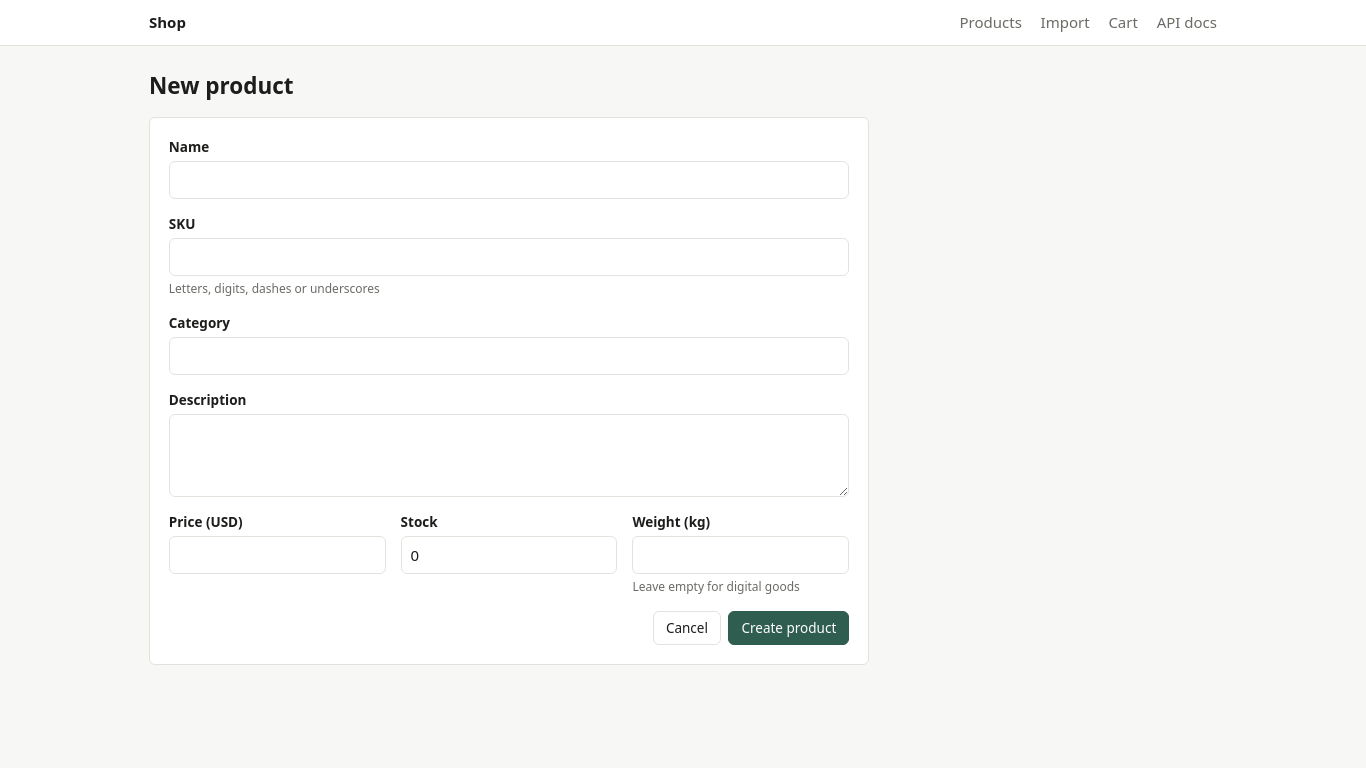
Test case: product form › shows field errors coming from the API
In the field labelled "Name": (509, 180) [169,161,849,199], type "Desk"
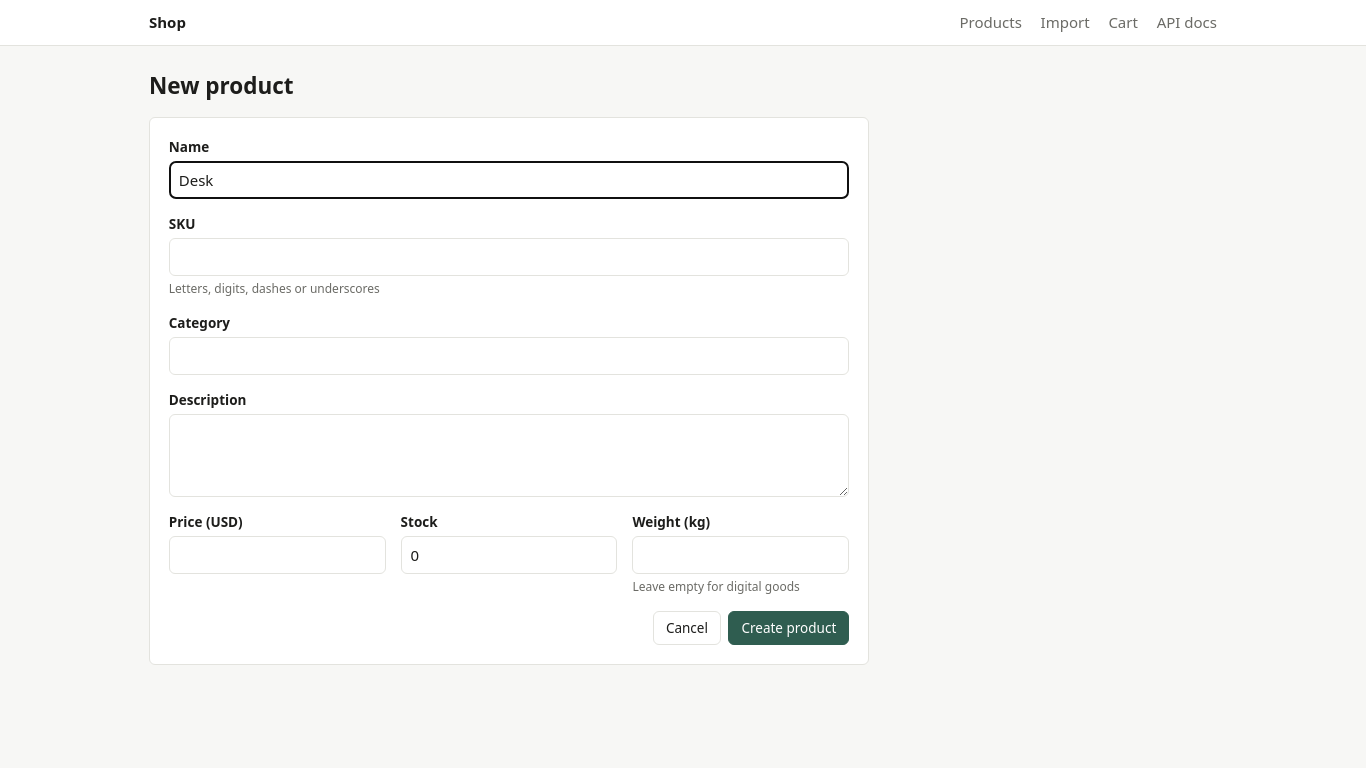
In the field labelled "SKU": (509, 257) [169,238,849,276], type "DK-1"
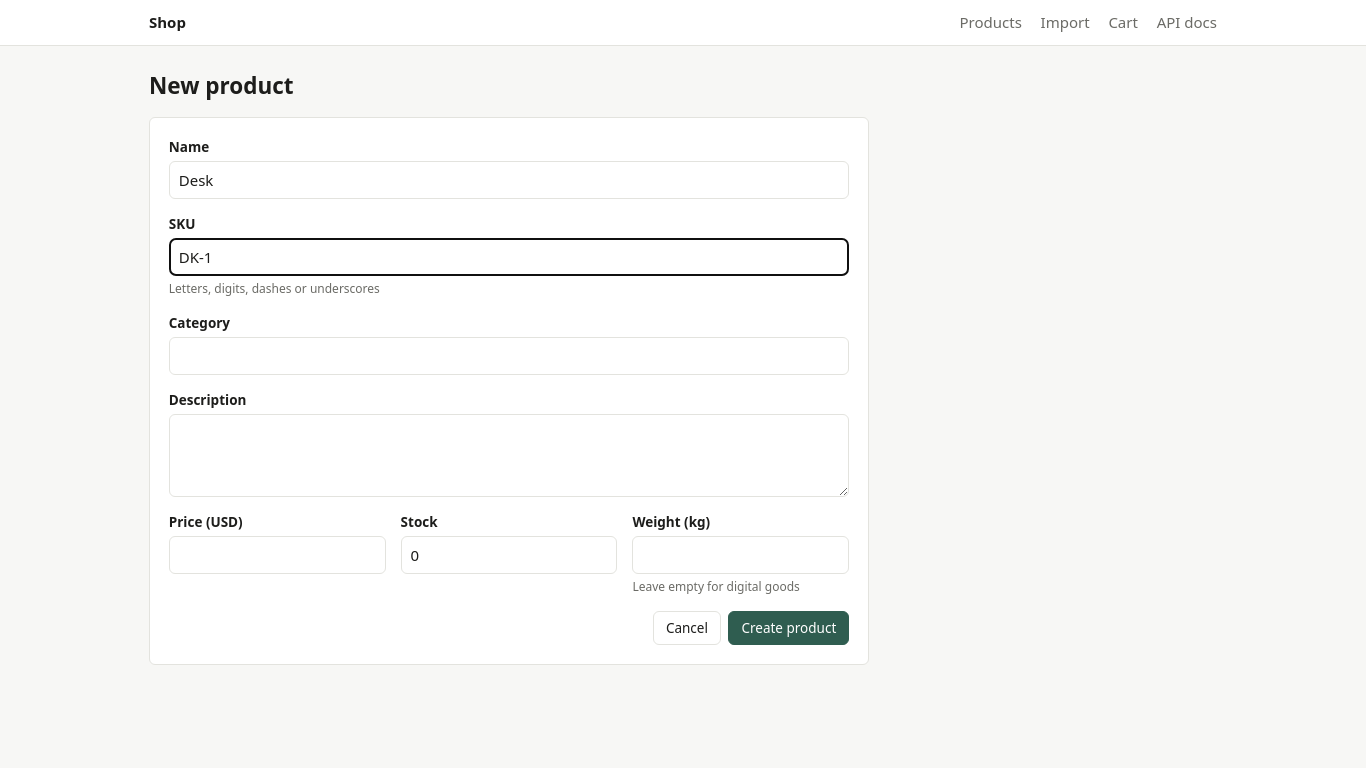
In the field labelled "Category": (509, 356) [169,337,849,375], type "Home"
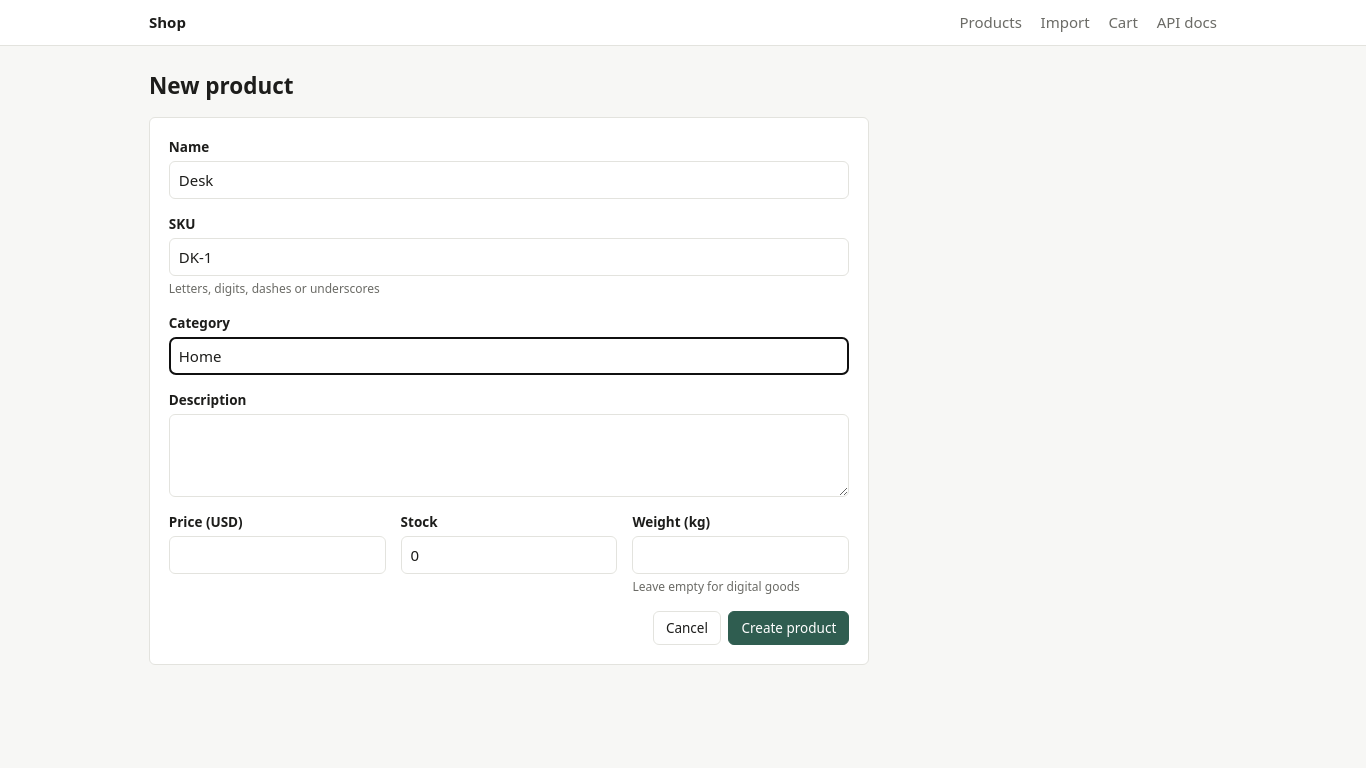
In the field labelled "Price (USD)": (277, 555) [169,536,386,574], type "9999999"
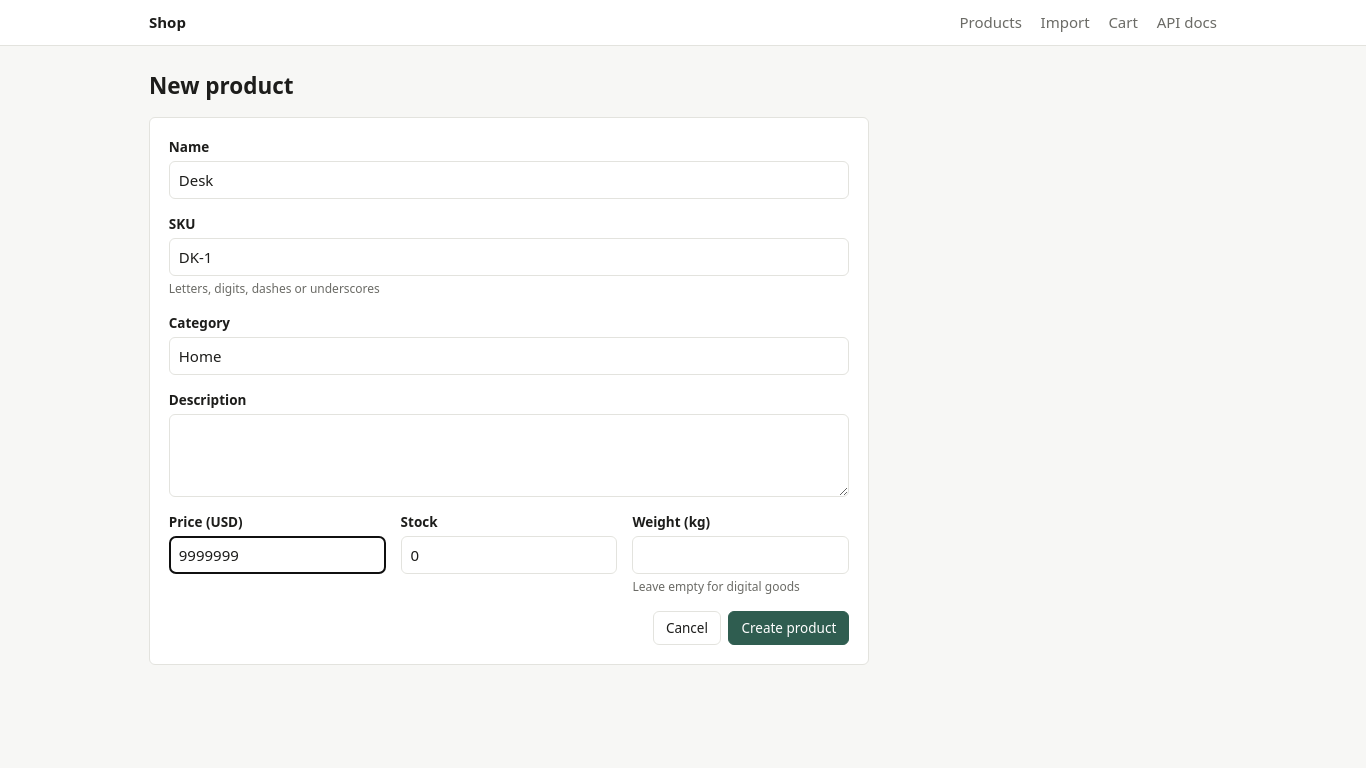
Click the button "Create product": (789, 628) [728,610,849,645]
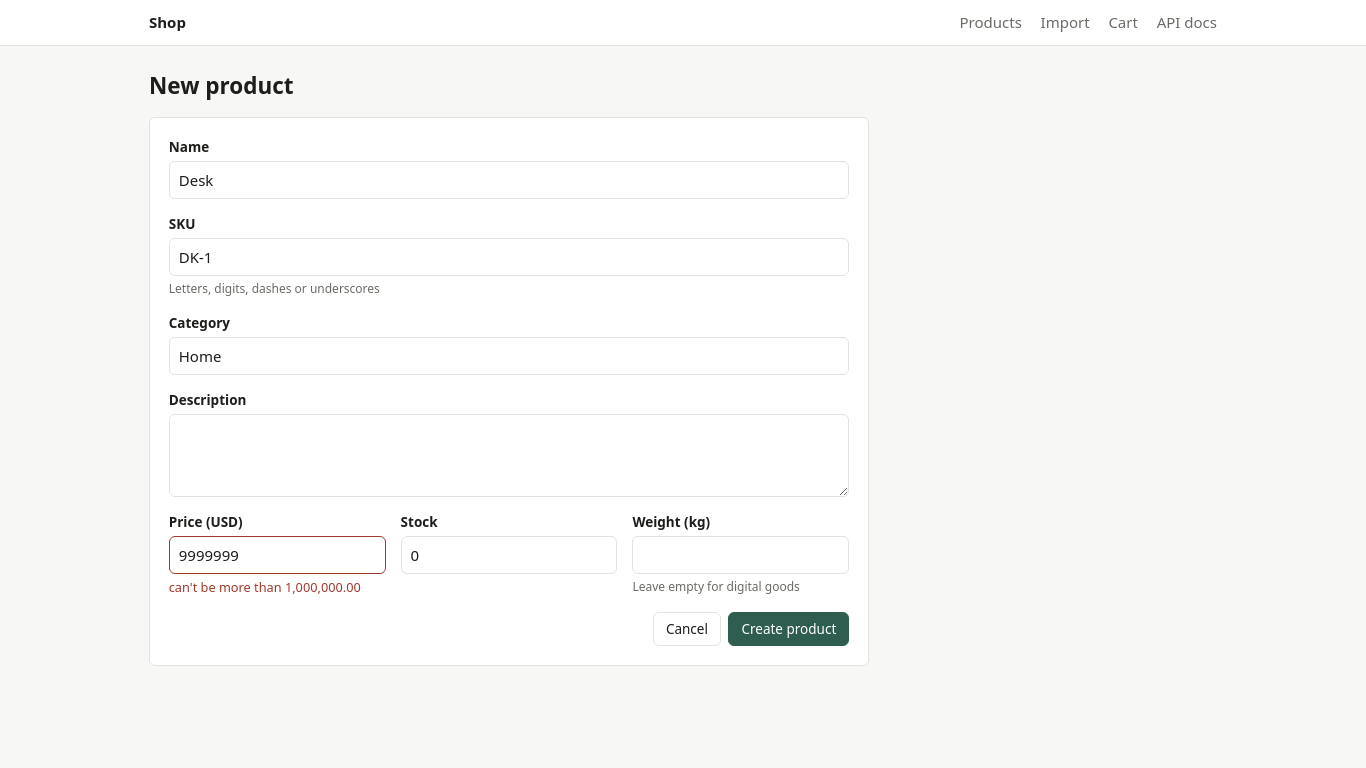
Expected: the text "can't be more than 1,000,000.00" is shown, [169,578,386,597]
